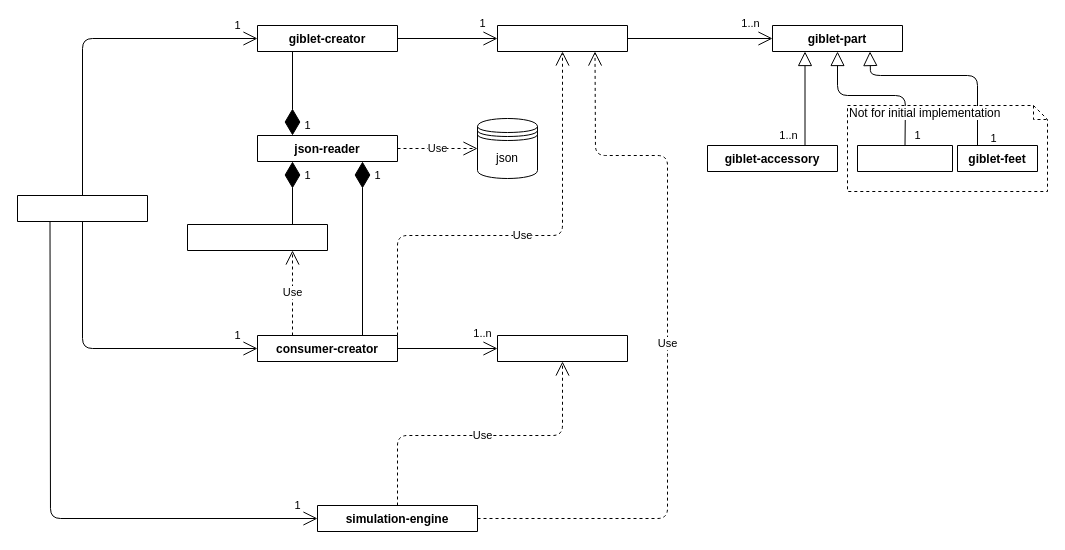
This 1065x550 diagram has some shape labels left out. The centre of each missing label's shape, as x and y in pixels:
"consumer" belongs at (562,348).
"giblet" belongs at (562,38).
"giblet-body" belongs at (904,158).
"giblet-world" belongs at (82,208).
"rate-aggregator" belongs at (257,237).
